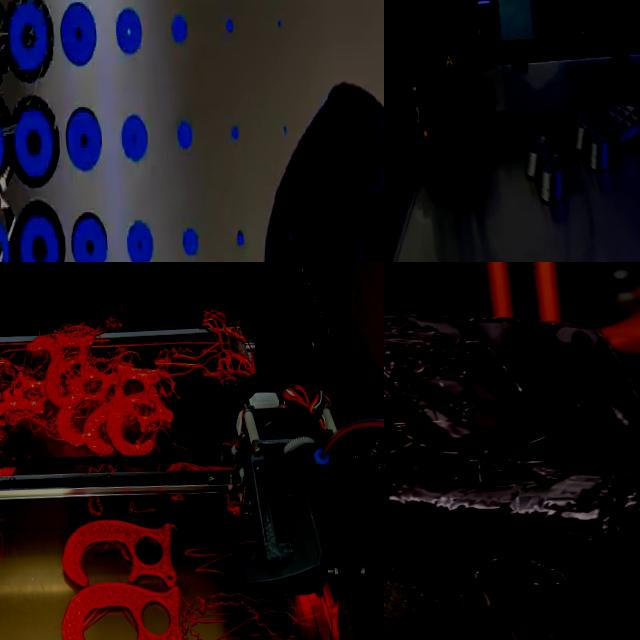spaghetti: (384, 302, 626, 640), (0, 272, 284, 479), (178, 572, 316, 640)
